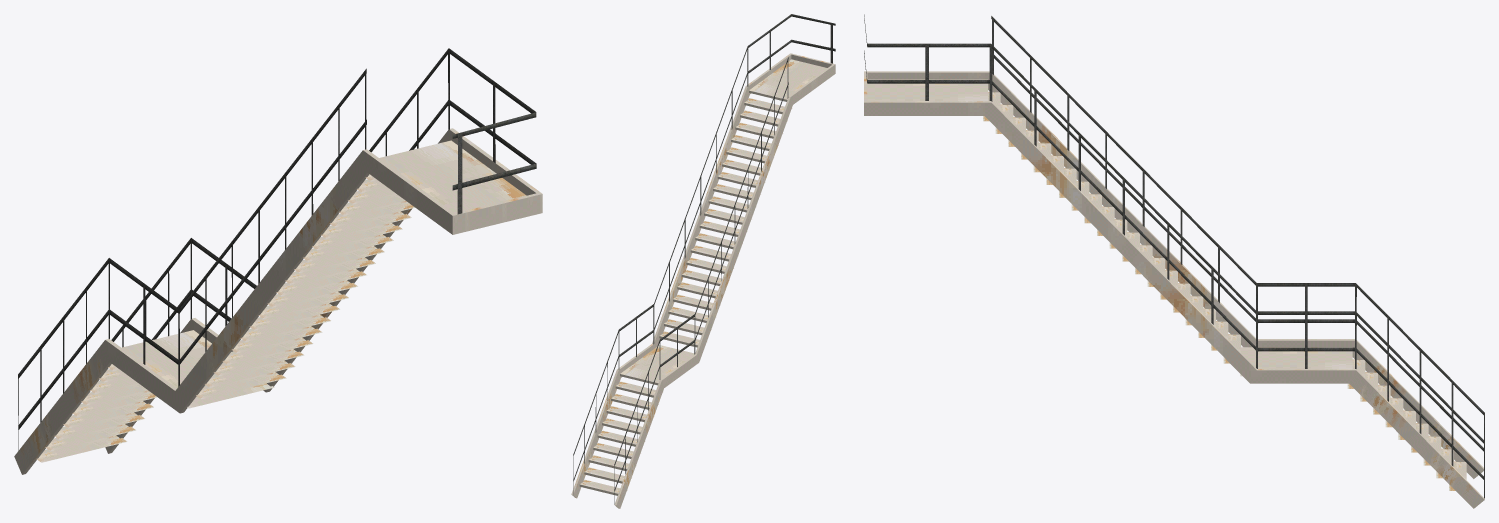
File: cos_sbanksteps02.obj
The picture shows the model from 3 angles, left to right: view 1: azimuth 30°, elevation 25°; view 2: azimuth 150°, elevation 25°; view 3: azimuth 270°, elevation 25°; orthographic projection. The views are drawn at different scales.
Parts seen in each view (by area): view 1: cos_sbanksteps02; view 2: cos_sbanksteps02; view 3: cos_sbanksteps02.
Boxes of the visible parts, x1,y1,x2,y2 form: cos_sbanksteps02: [14, 48, 542, 474]; cos_sbanksteps02: [571, 14, 835, 508]; cos_sbanksteps02: [864, 14, 1484, 508].
Bounding box in the file's own units: 1.05 × 7.28 × 8.83.
2 materials, 2 textured.
